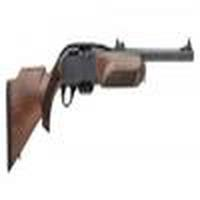gun: (6, 36, 198, 168)
